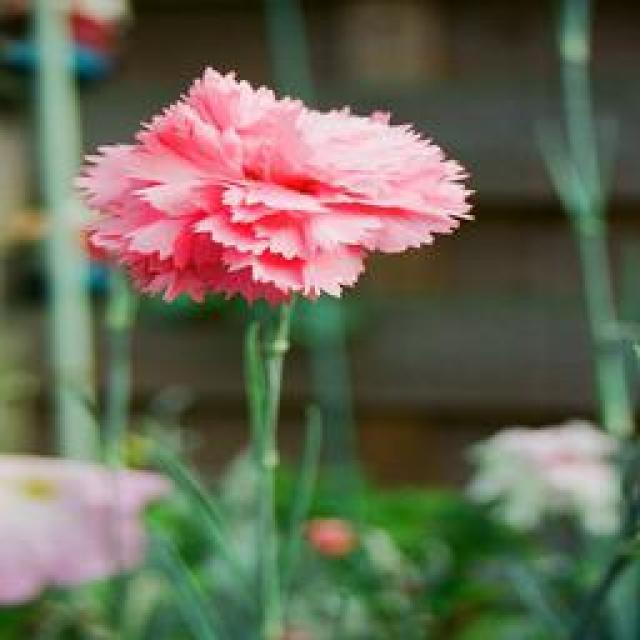carnation: (81, 52, 467, 359)
